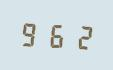nine: (18, 18, 42, 49)
six: (44, 19, 68, 50)
two: (69, 20, 93, 51)
